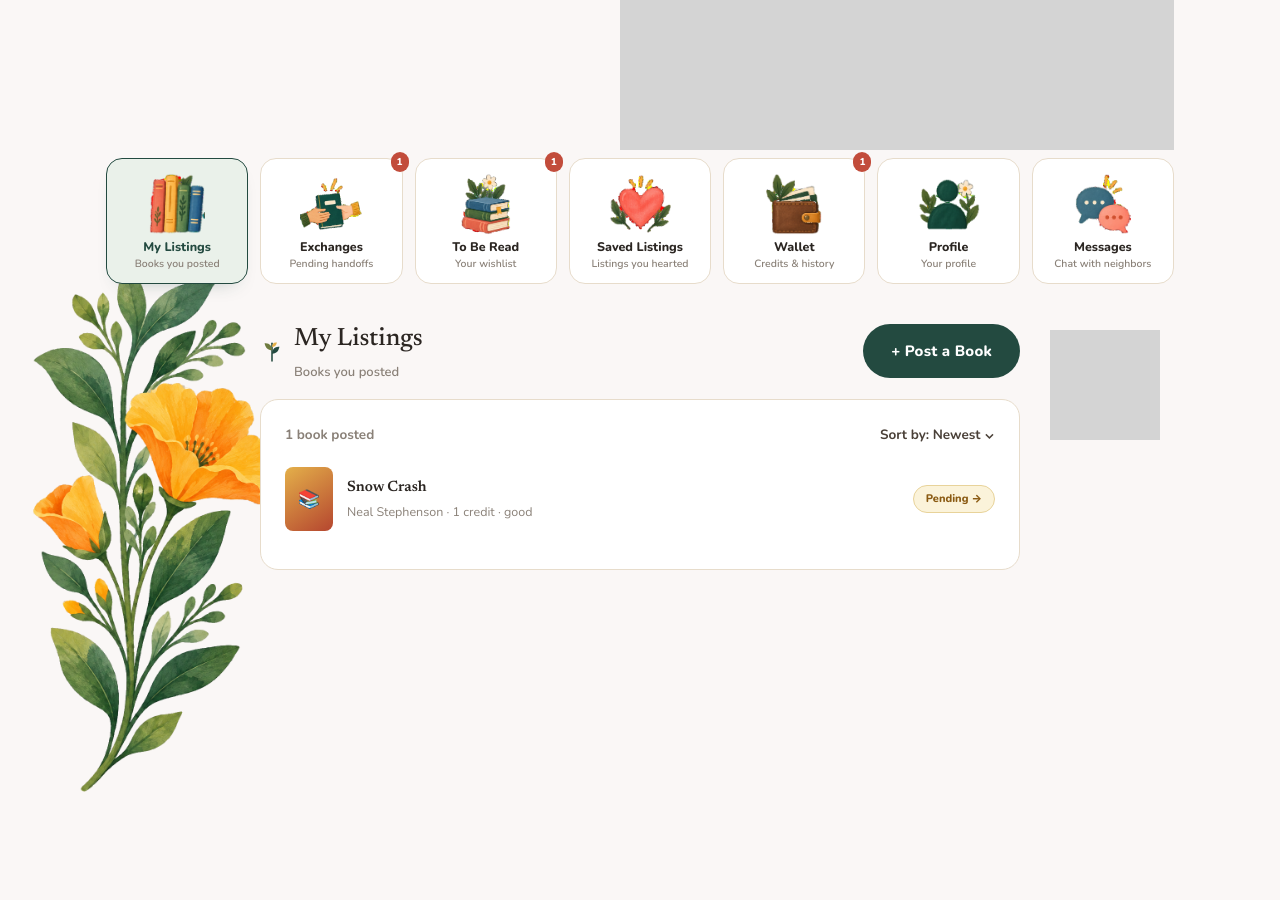
DashboardClient — My Listings active/paused split › opens the Exchanges tab when a pending listing's Pending button is clicked
(page scrolled)
Click the button with aria-label "Pending — view in Exchanges". click: x=954, y=499
box: [913, 485, 995, 513]
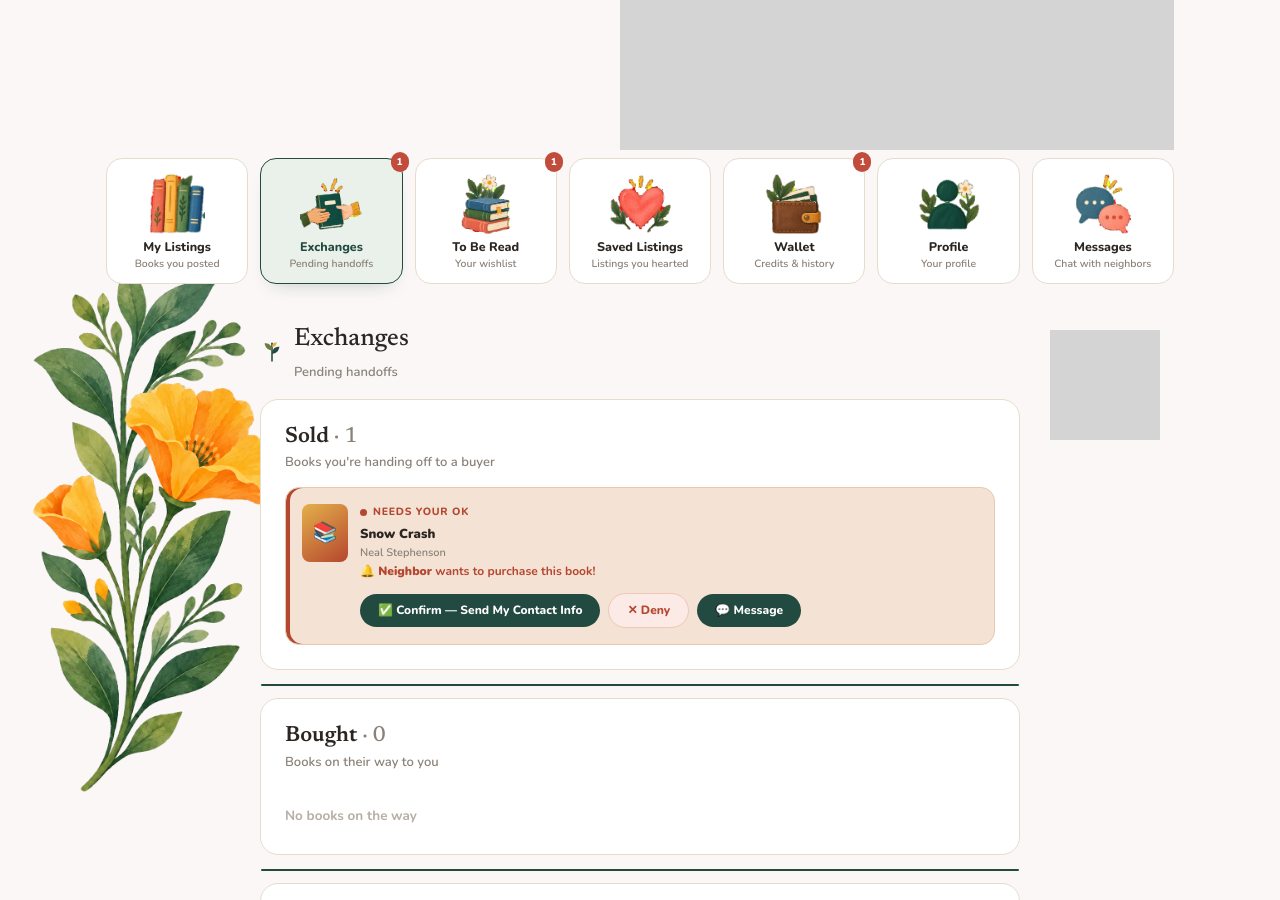
Check: the button with class "is-active" shows "Exchanges", box [260, 158, 403, 284]
Check: the heading "Sold · 1" is shown, box [285, 426, 357, 448]
